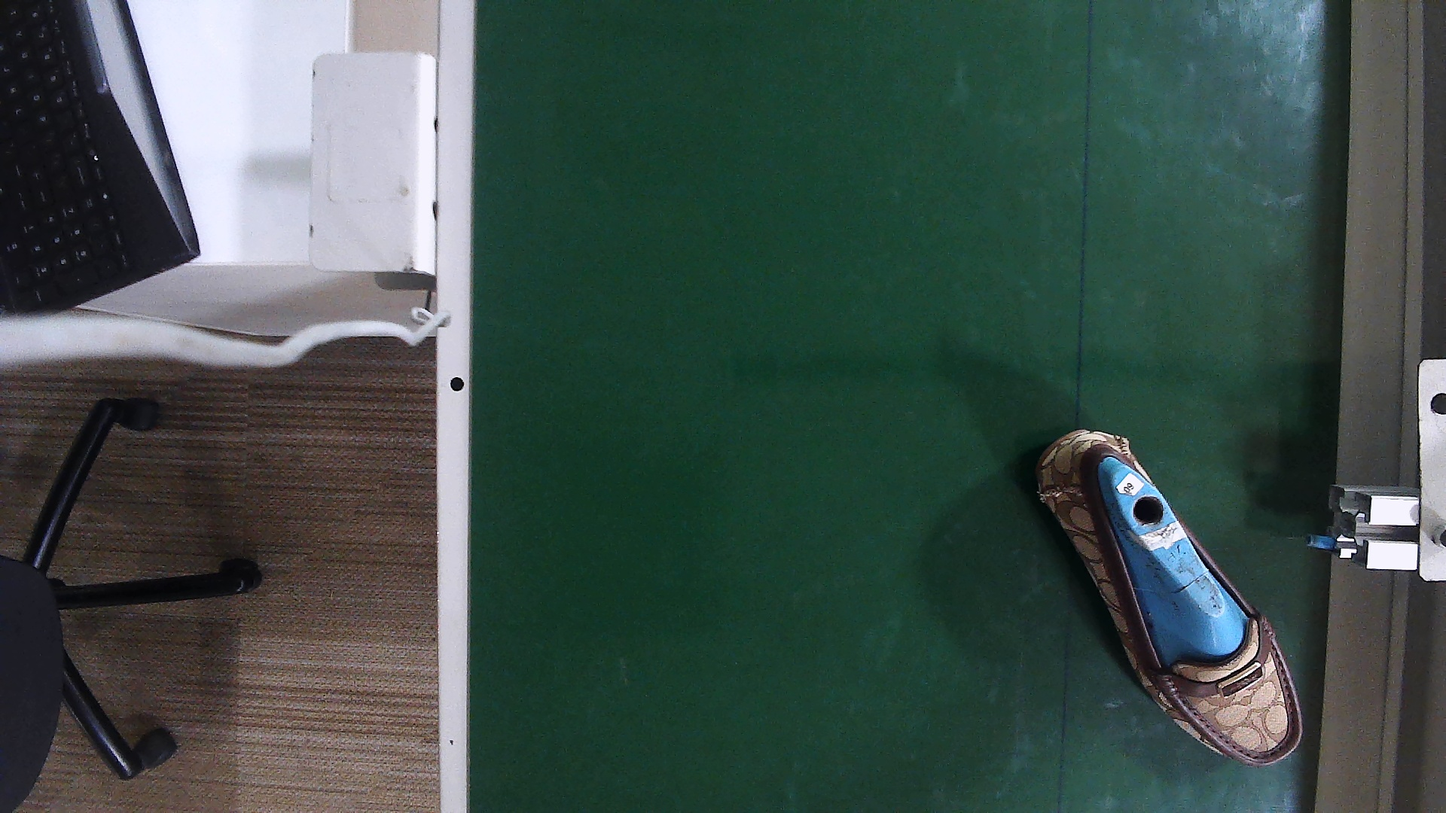shoe: (1042, 432, 1300, 764)
